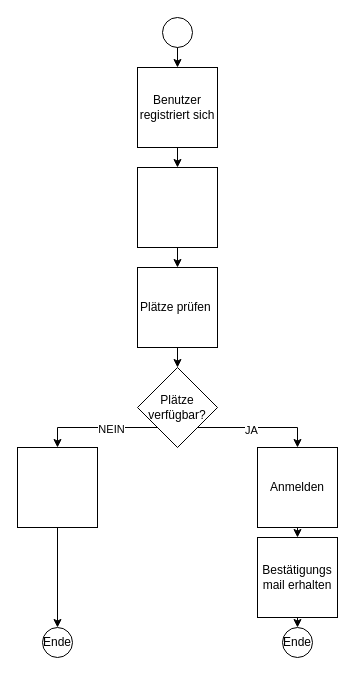
The diagram is 355 pixels wide and 675 high, and some of its shapes have lost their labels. Each missing label, with the box of its shape:
Keine Plätze verfügbar: (16, 446, 98, 528)
Kurs wahlen: (136, 166, 218, 248)
Start: (162, 16, 192, 48)
